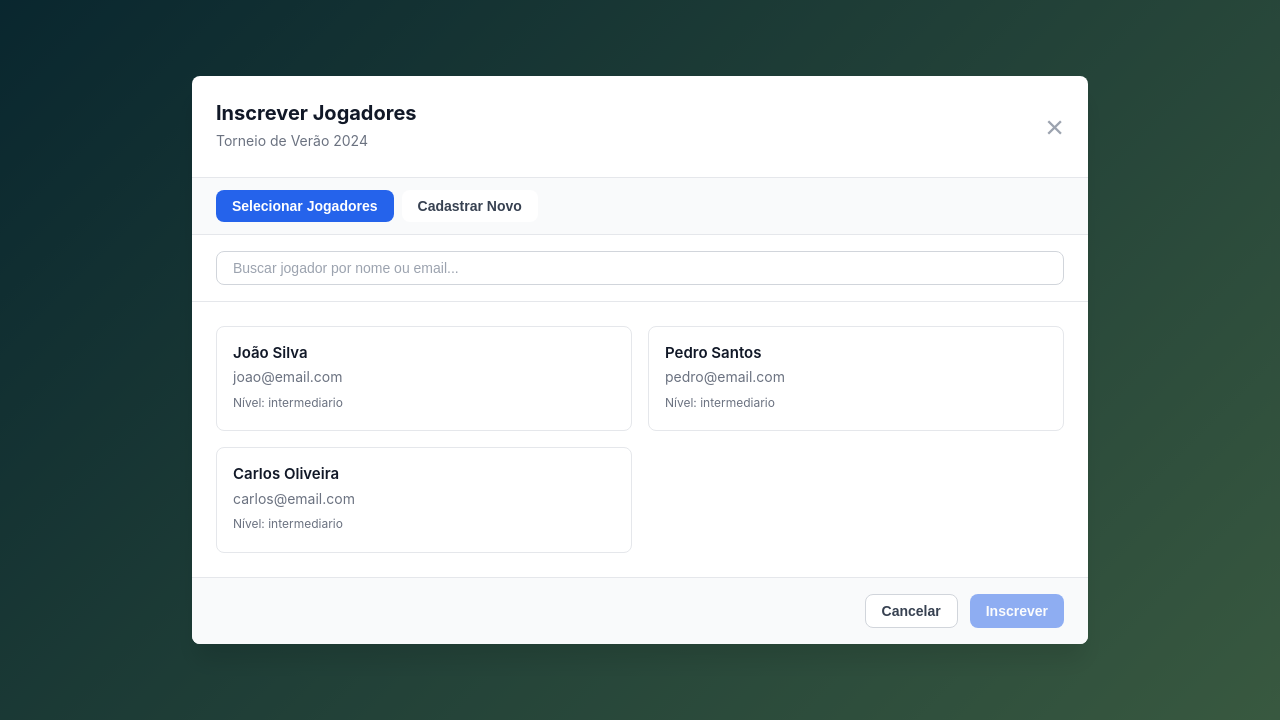
ModalInscricao › seleção de jogadores › deve selecionar jogador ao clicar
Click the heading "João Silva": [270, 352] box [233,343,308,362]
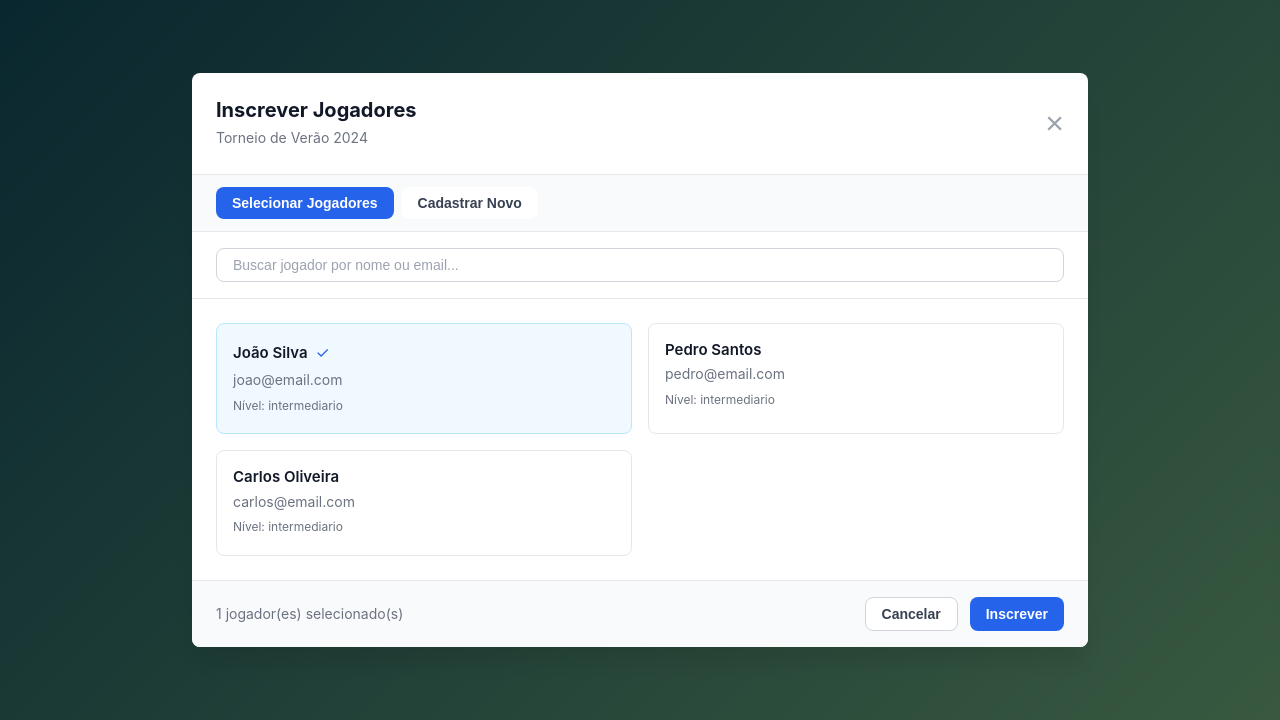
Result: the text "1 jogador(es) selecionado(s)" is shown at [216,604,403,622]
